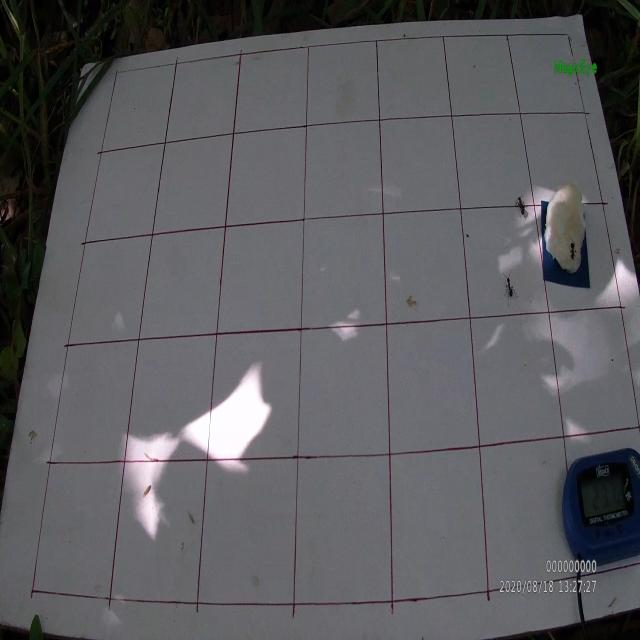Ant: (503, 268, 519, 306), (514, 194, 528, 220), (566, 236, 577, 261)
